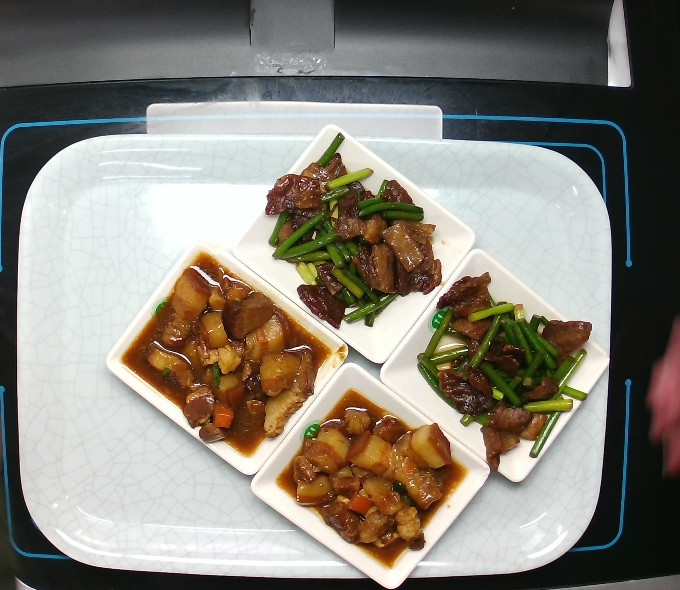wcq-HongShaoRou: (146, 268, 325, 453), (296, 397, 452, 557)
wcq-SuanMiaoChaoRou: (254, 145, 447, 336), (425, 283, 590, 478)
